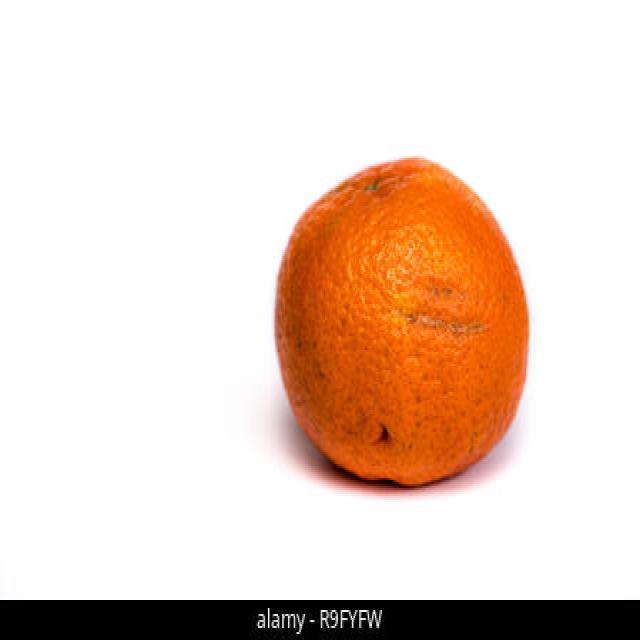overripe: (268, 147, 536, 495)
